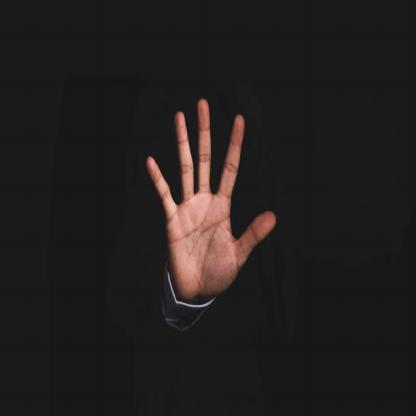stop: (142, 93, 278, 303)
